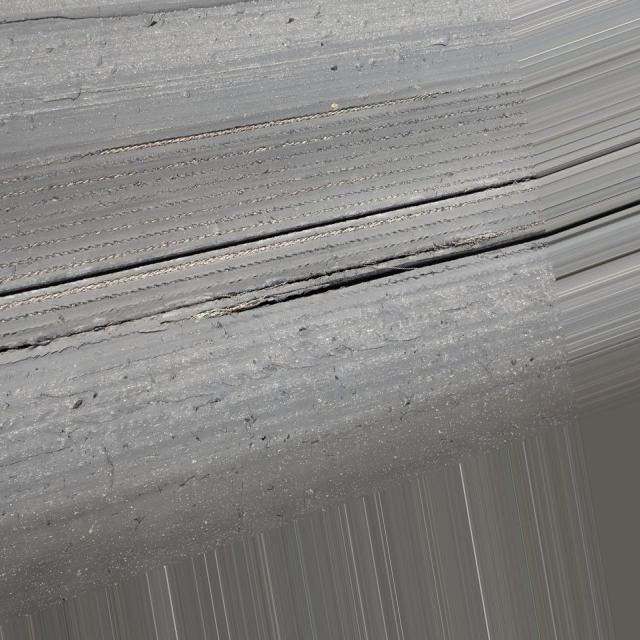Tear: (0, 173, 536, 301), (0, 228, 489, 361), (238, 230, 548, 321)
Wear: (2, 76, 524, 296)
